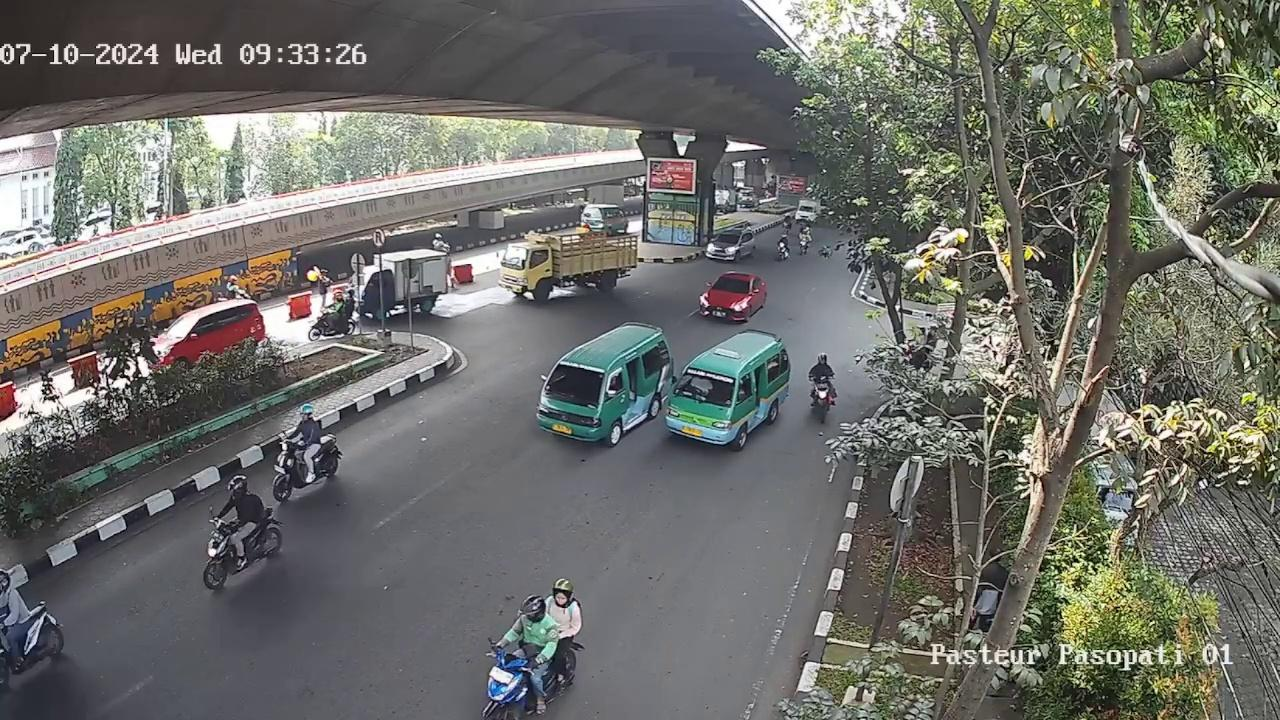tidak-pakai: (687, 376, 712, 396)
windshield: (672, 364, 740, 408), (544, 362, 606, 404), (713, 275, 751, 296)
